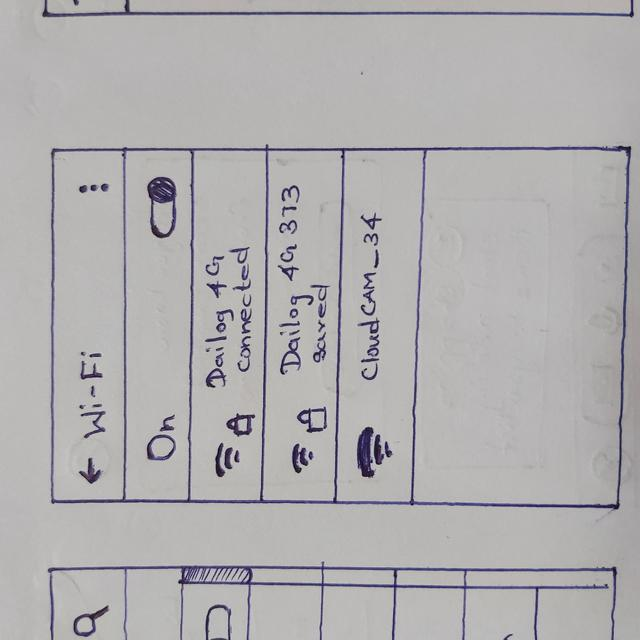ActionButton: (53, 171, 125, 213)
AppBar: (48, 149, 128, 500)
BackButton: (79, 454, 104, 486)
Icon: (357, 423, 394, 479), (216, 442, 241, 477), (227, 412, 256, 439), (287, 445, 315, 472), (300, 407, 328, 433), (81, 183, 110, 195)
Layout: (340, 150, 413, 503), (191, 149, 263, 500), (264, 146, 334, 501), (126, 149, 187, 503)
ListView: (195, 150, 420, 502)
MainLayout: (51, 148, 622, 506)
Switch: (146, 177, 179, 241)
TextView: (277, 186, 304, 372), (204, 255, 226, 386), (363, 217, 379, 386), (232, 247, 253, 373), (78, 352, 105, 439), (144, 414, 177, 461), (314, 282, 328, 364)
VerticalListView: (197, 150, 421, 502)
